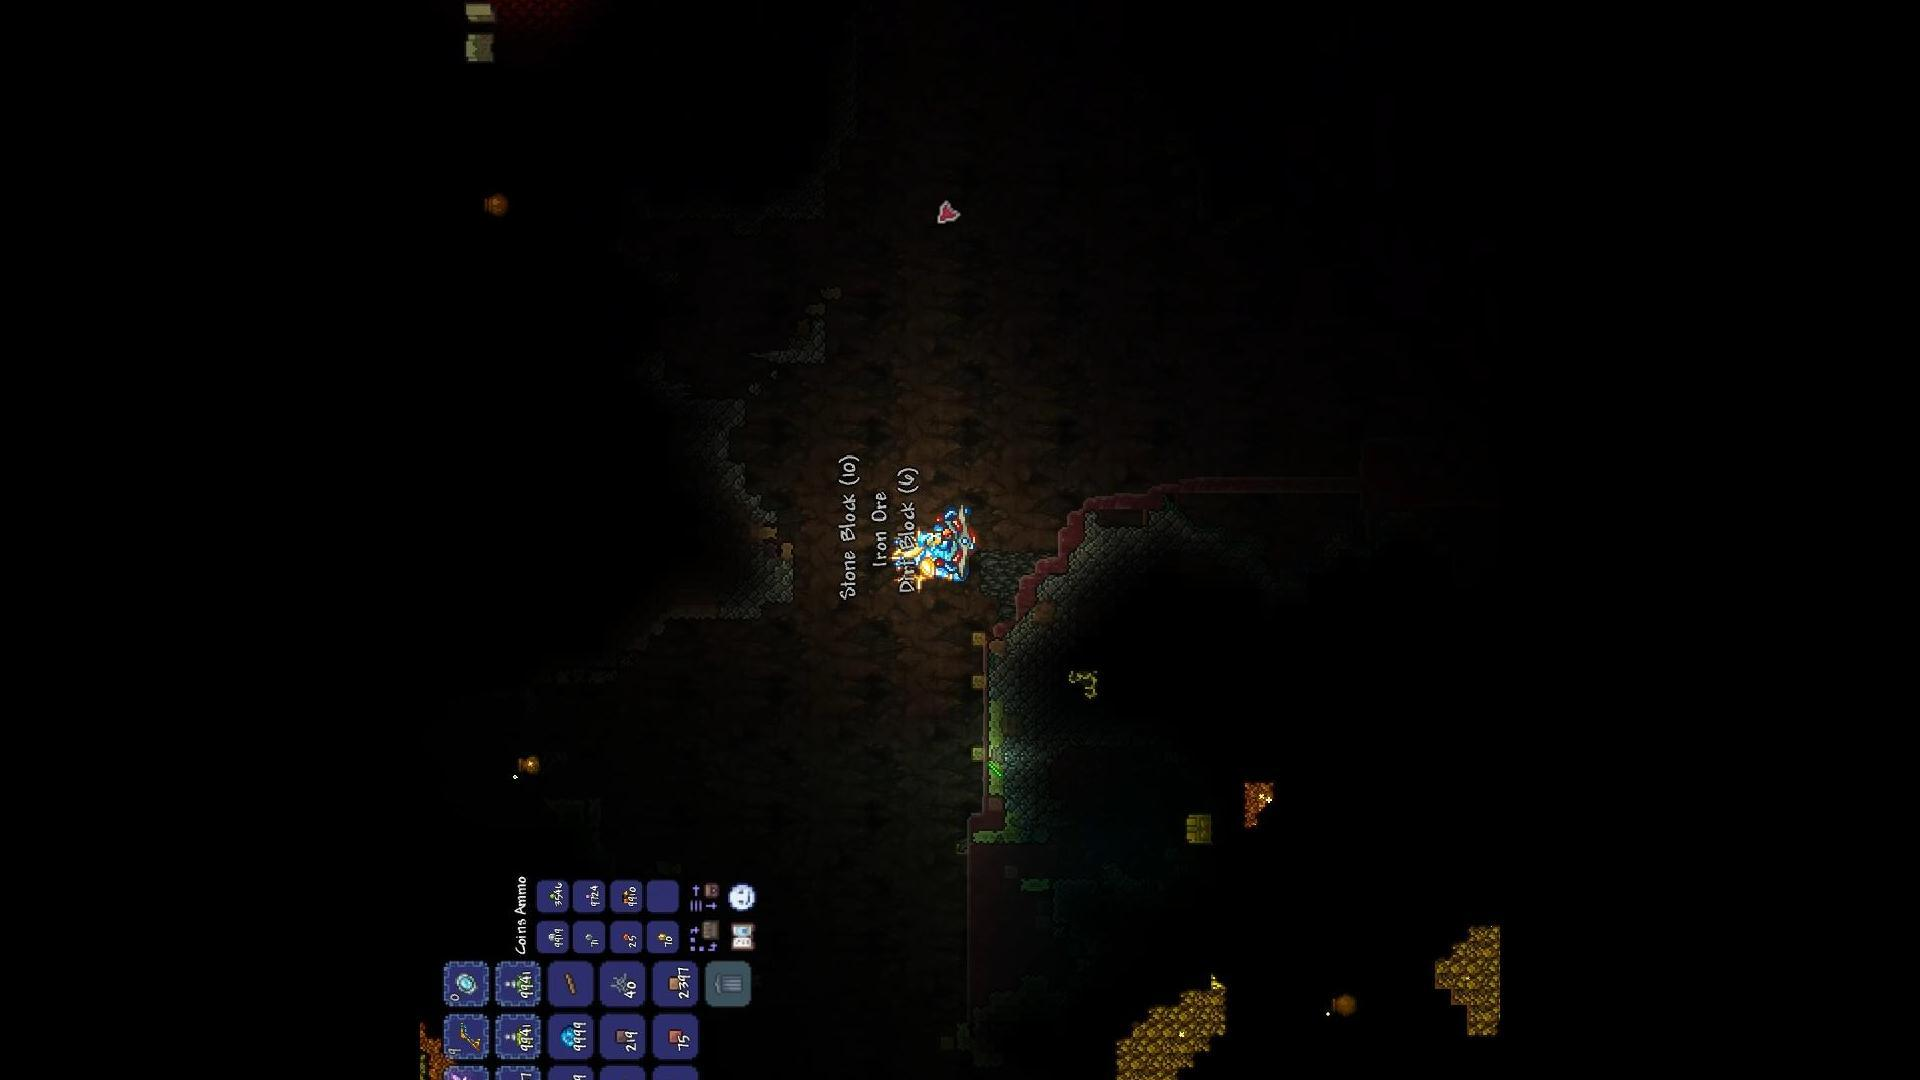cobwebI: (609, 972, 640, 997)
